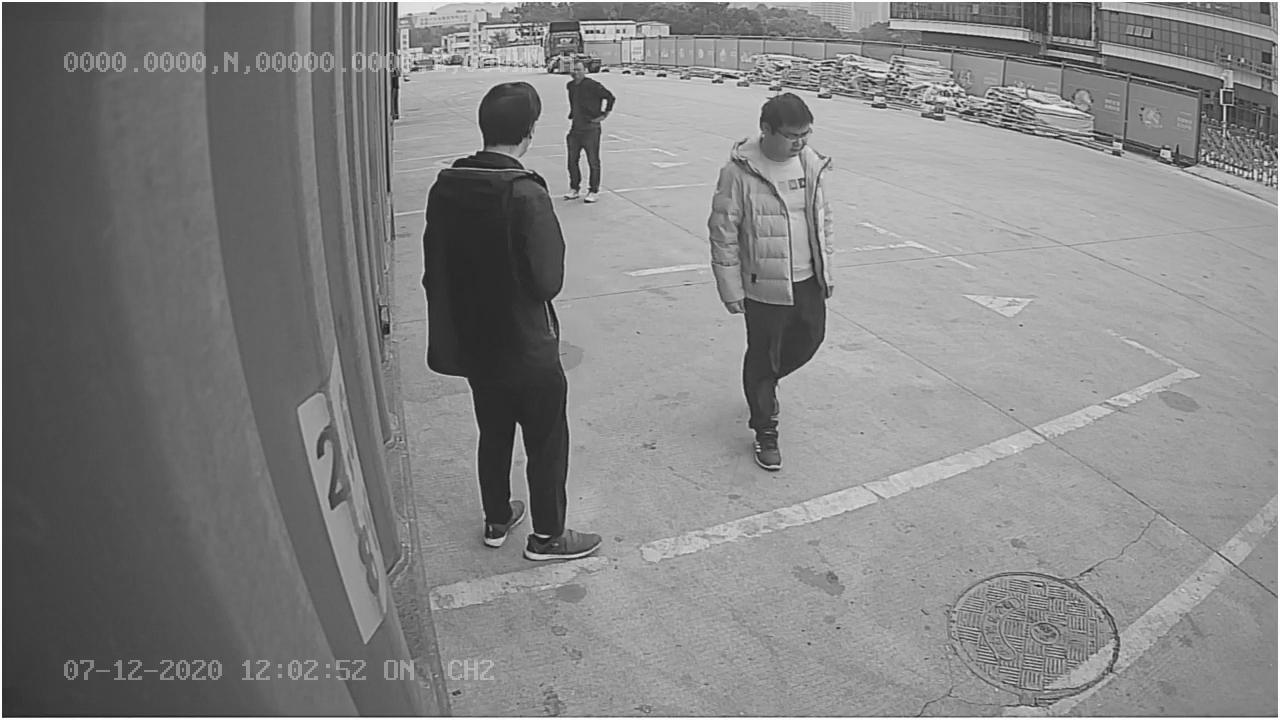person: (708, 90, 841, 473)
